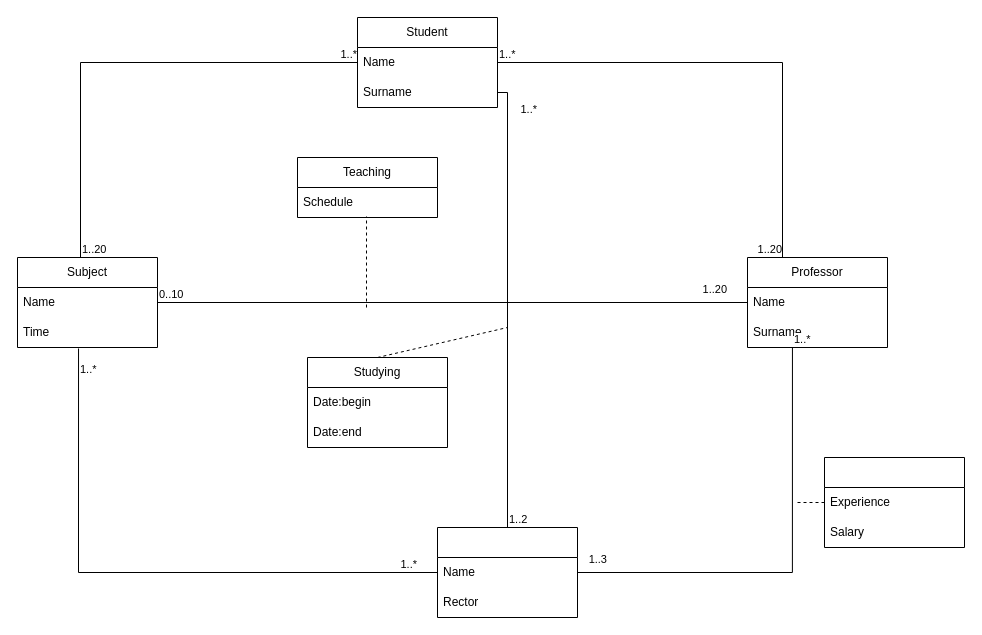
This 982x635 diagram has some shape labels left out. Here are the shapes that lost their labels. From the top down, the box of each, then its label:
(824, 456, 964, 548): Work
(436, 526, 578, 618): University
